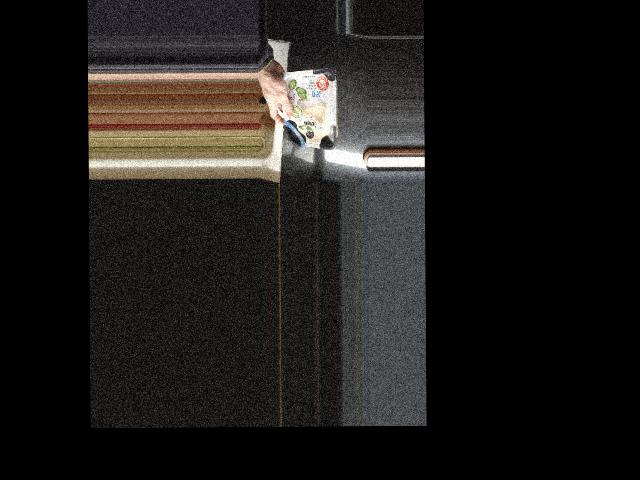cheese: (276, 68, 336, 148)
